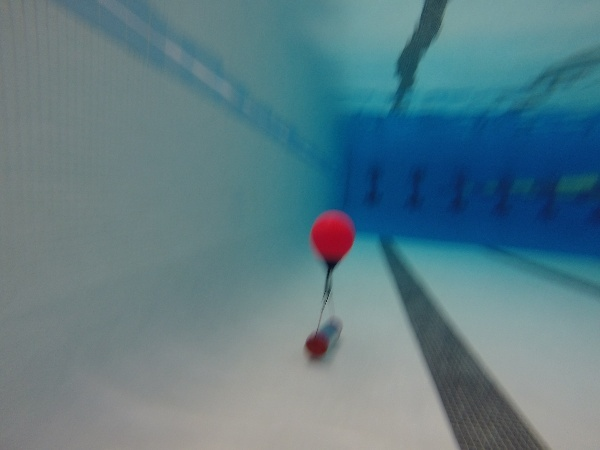buoy_red: (306, 208, 358, 274)
